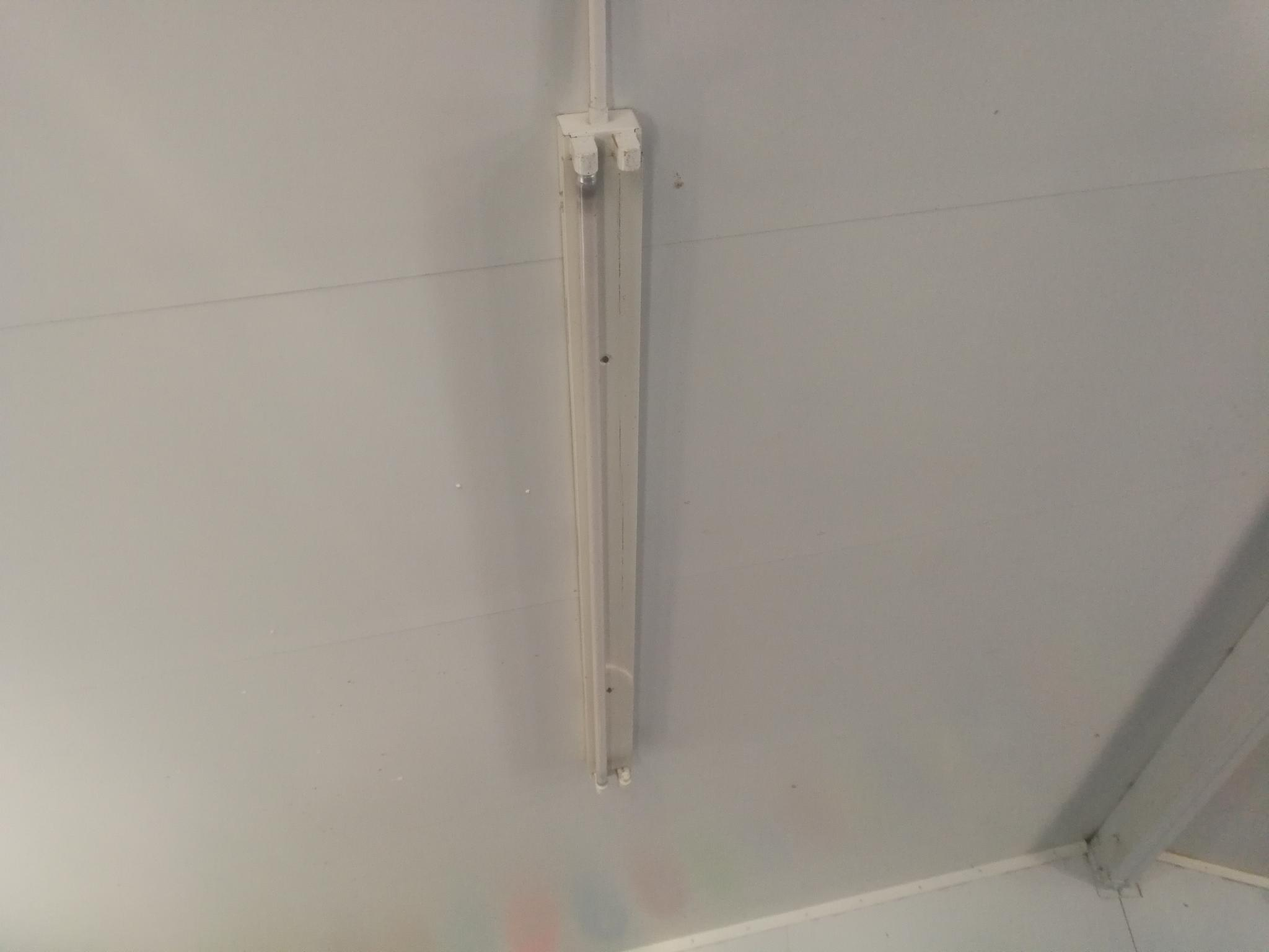light: (553, 107, 655, 791)
